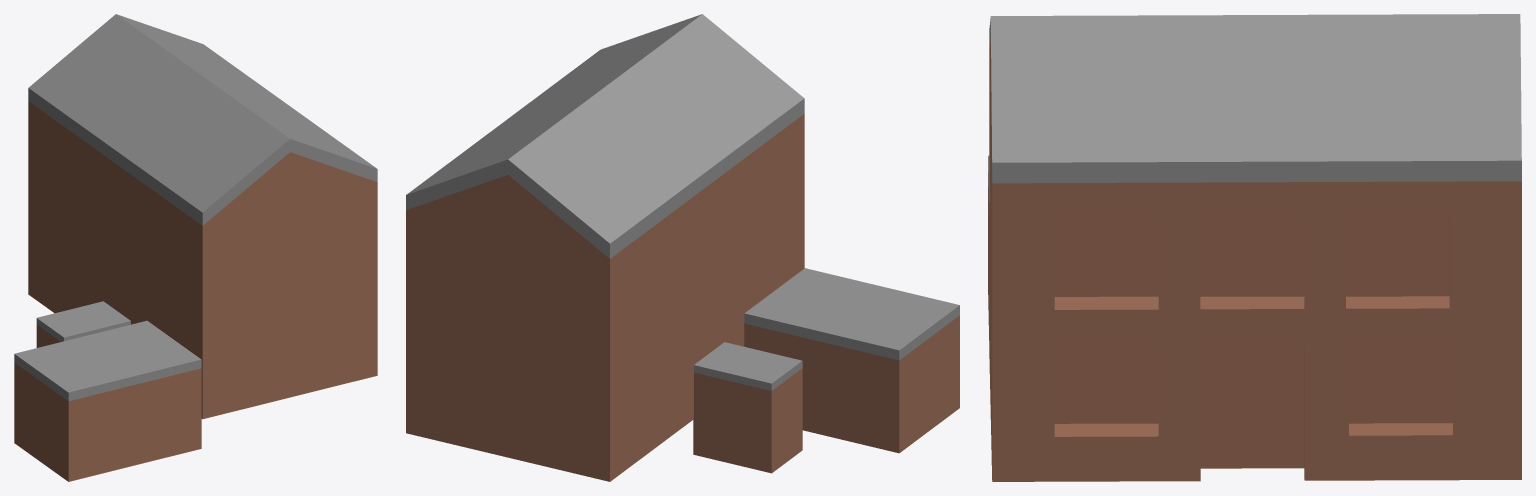
File: kunstacademie.glb
3 views of the same model, side by side, from view 1: azimuth 30°, elevation 25°; view 2: azimuth 150°, elevation 25°; view 3: azimuth 270°, elevation 25° (orthographic). The views are drawn at different scales.
Visible parts, largest first — view 1: Cube.016, Cube.019, Cube.024; view 2: Cube.016, Cube.019, Cube.024; view 3: Cube.016.
Boxes of the visible parts, bbox=[...] form: Cube.016: bbox=[28, 14, 377, 419]; Cube.019: bbox=[14, 320, 201, 481]; Cube.024: bbox=[36, 301, 130, 347]; Cube.016: bbox=[406, 14, 804, 481]; Cube.019: bbox=[744, 268, 959, 453]; Cube.024: bbox=[693, 342, 802, 473]; Cube.016: bbox=[989, 14, 1521, 481].
Bounding box in the file's own units: 0.5054 × 0.449 × 0.4858.
